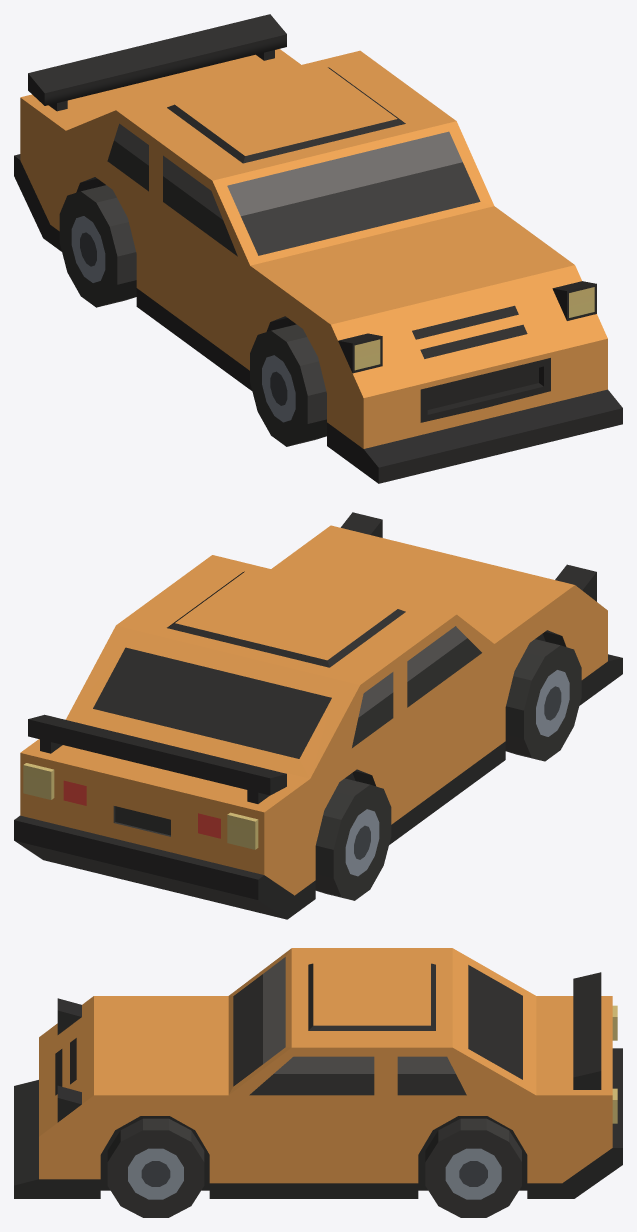
Rendered from che01.FBX.
3 views of the same model, one above another, from view 1: azimuth 30°, elevation 25°; view 2: azimuth 150°, elevation 25°; view 3: azimuth 270°, elevation 25° (orthographic). The views are drawn at different scales.
Visible parts, largest first — view 1: Object001, BR, FR; view 2: Object001, FR, BR; view 3: Object001, FL, BL.
Part boxes in pixels (x1=…): Object001: x1=14, y1=14, x2=622, y2=483; BR: x1=59, y1=185, x2=136, y2=307; FR: x1=250, y1=324, x2=326, y2=446; Object001: x1=14, y1=512, x2=622, y2=919; FR: x1=505, y1=639, x2=581, y2=761; BR: x1=315, y1=778, x2=391, y2=900; Object001: x1=14, y1=948, x2=622, y2=1198; FL: x1=107, y1=1118, x2=204, y2=1217; BL: x1=425, y1=1118, x2=521, y2=1217.
Size of the model in its own units: 208 by 147 by 482.
